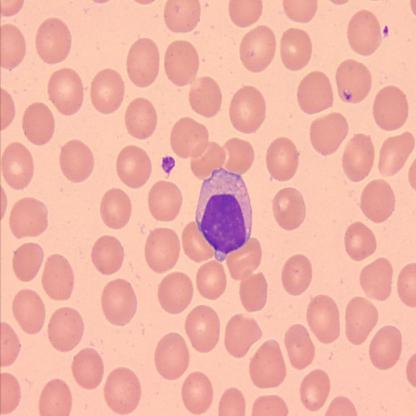Atypical lymphocyte: (197, 166, 253, 260)
